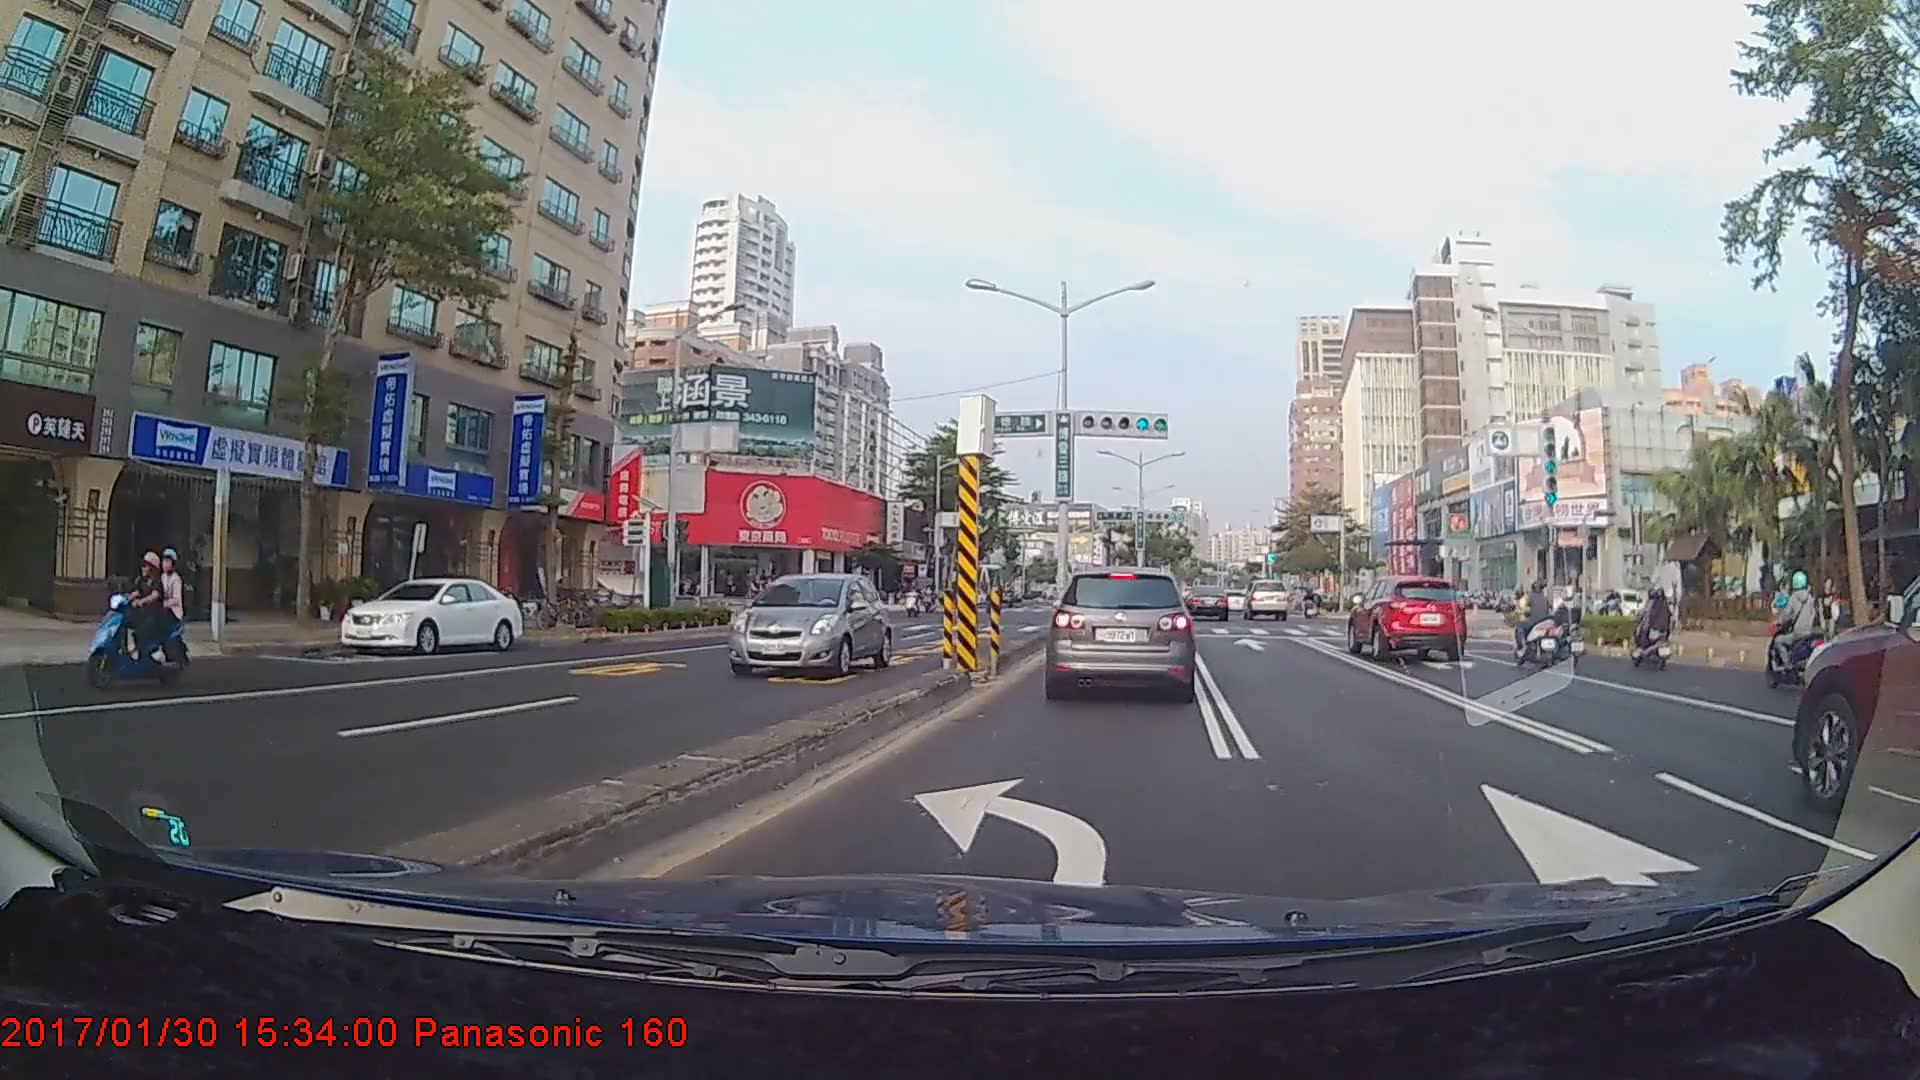pedestrian: (1816, 578, 1841, 662), (1770, 581, 1796, 653)
rider: (85, 549, 194, 694), (1769, 574, 1836, 689), (1507, 580, 1568, 670), (1623, 589, 1676, 671), (736, 571, 775, 619)
vehicle: (1788, 537, 1916, 840), (1045, 564, 1193, 699), (727, 571, 892, 677), (336, 575, 523, 655), (1348, 570, 1469, 662), (1243, 578, 1289, 621), (1183, 585, 1226, 622)
